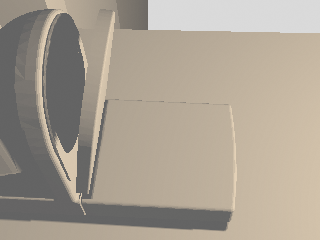lid_1: (76, 10, 114, 197)
